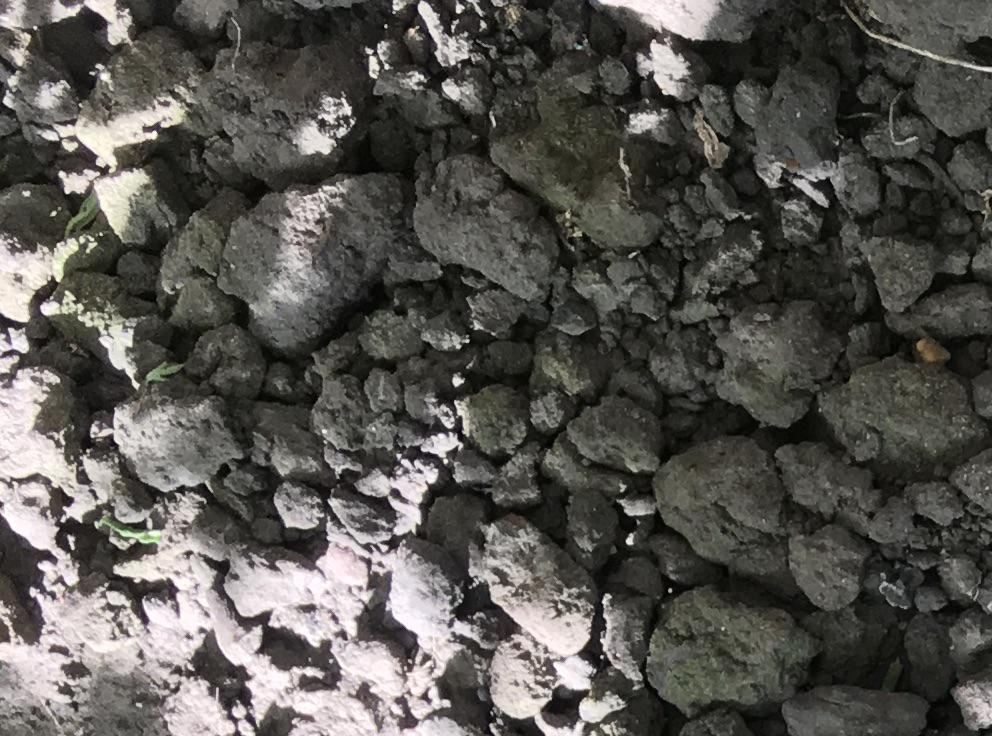block: (215, 179, 394, 346), (639, 584, 818, 717), (411, 152, 553, 308), (820, 353, 987, 485), (649, 432, 793, 576), (718, 299, 839, 429), (109, 377, 243, 490)
